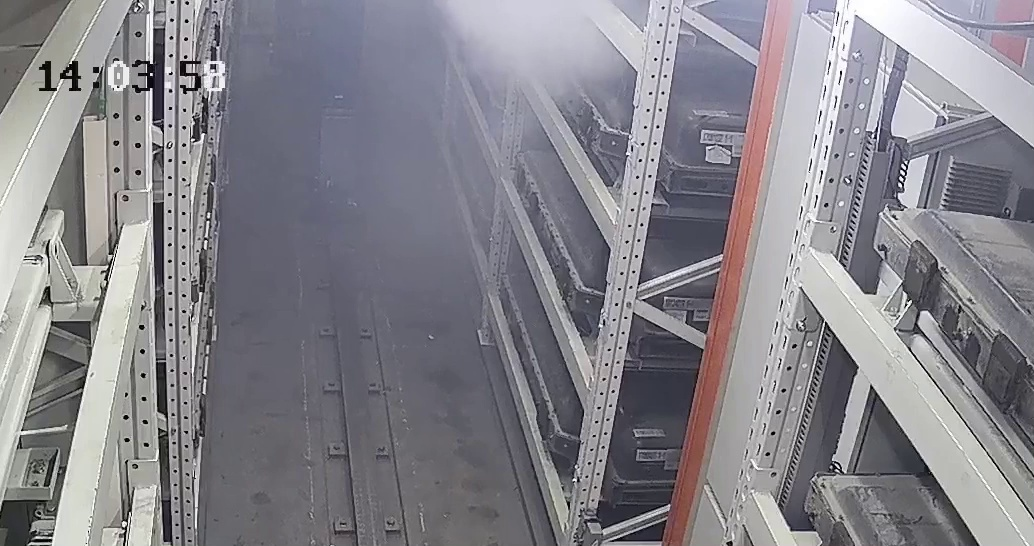smoke: (440, 3, 615, 82)
